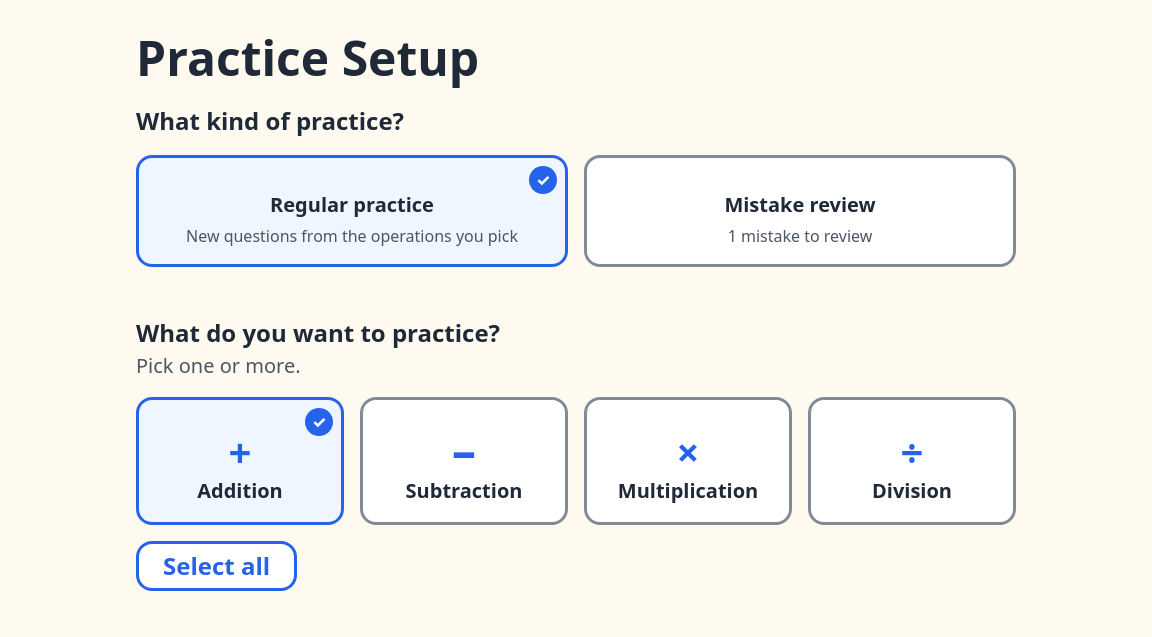
Test: practice setup modes › hides operation and difficulty choices in mistake review
Click the radio button labelled "Mistake review". click: point(800, 211)
box: x1=584 y1=155 x2=1016 y2=267
(page scrolled)
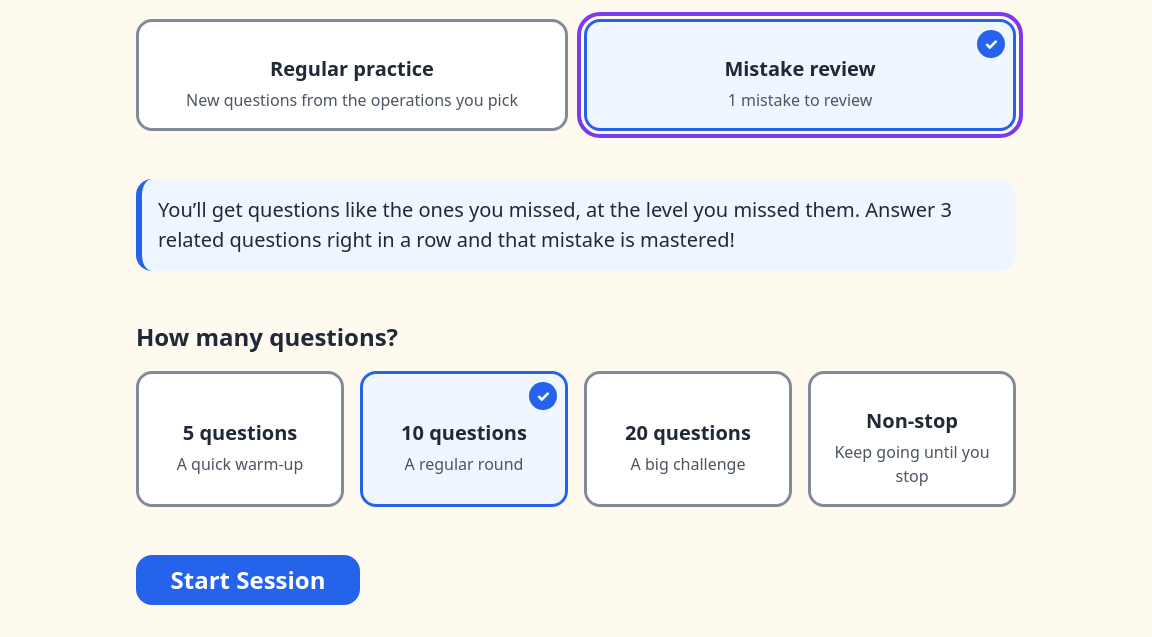
Expected: the element "How many questions?" is shown, x1=136 y1=319 x2=1016 y2=507
Expected: the text "What do you want to practice?" is gone
Expected: the text "questions like the ones you missed" is shown, x1=158 y1=196 x2=935 y2=223
